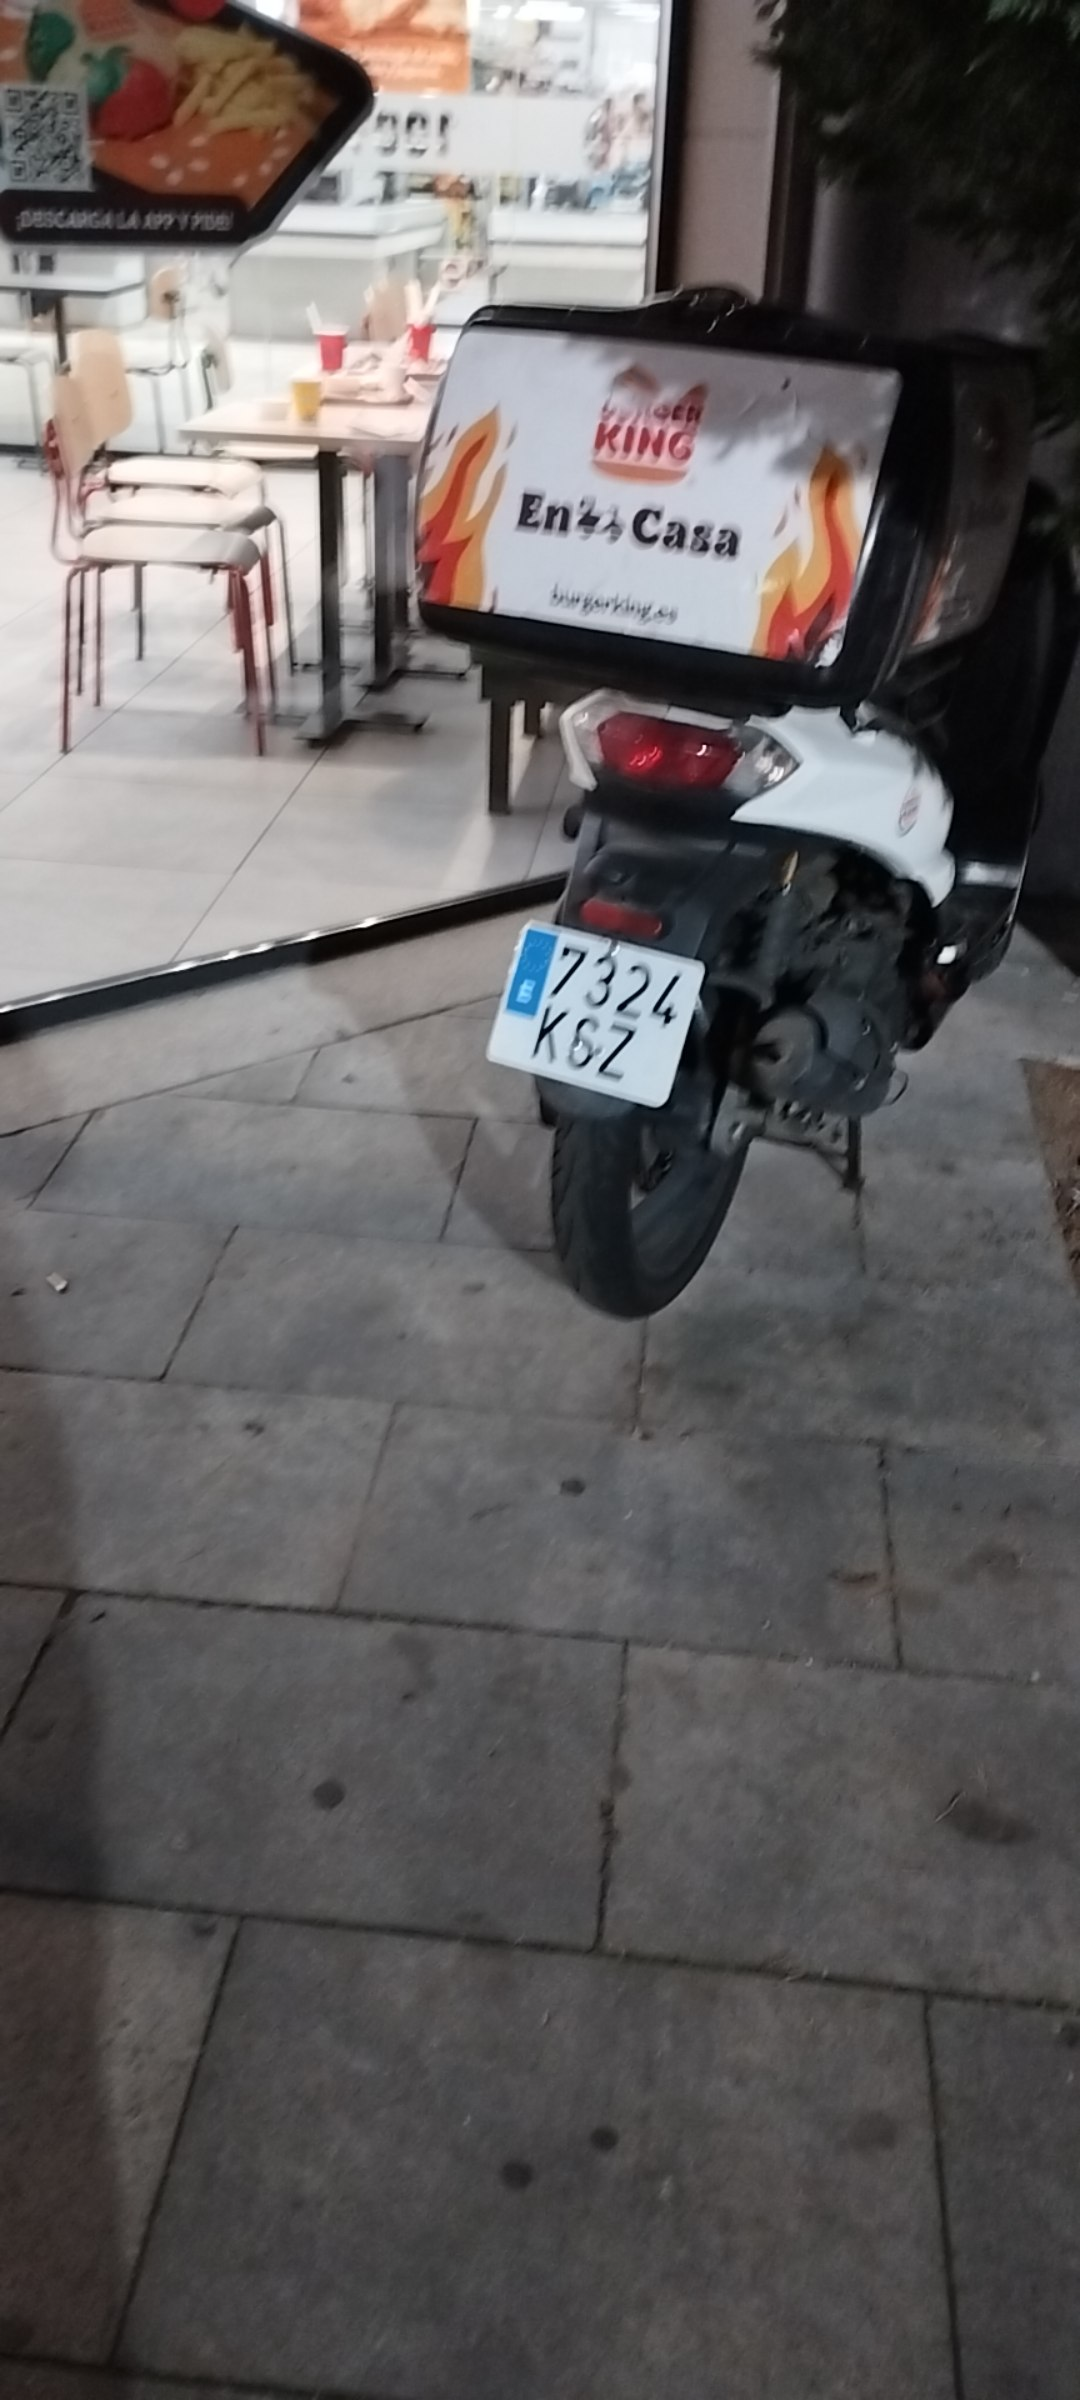Car: (403, 283, 1077, 1333)
Plate: (520, 921, 704, 1067)
